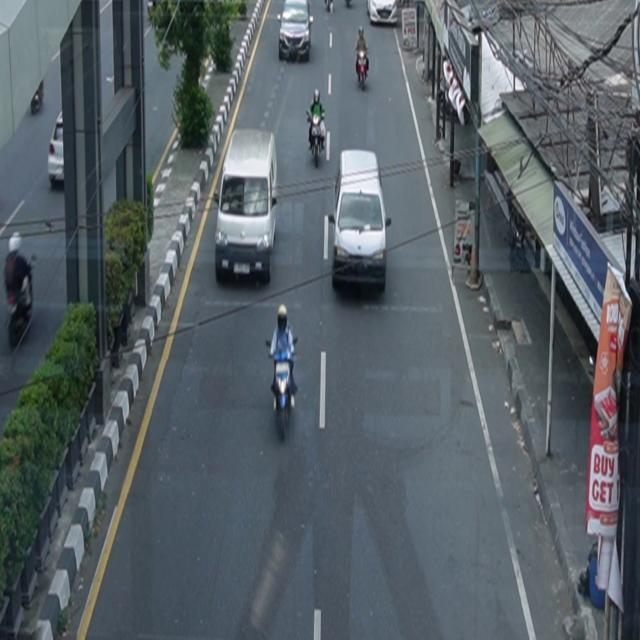car: (278, 1, 314, 63), (48, 110, 65, 188), (367, 1, 398, 26)
truck: (215, 128, 279, 284), (332, 149, 392, 294)
